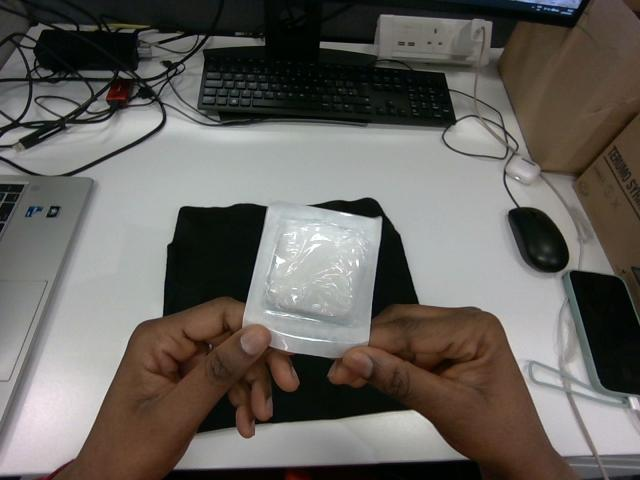gauze: (243, 203, 381, 357)
